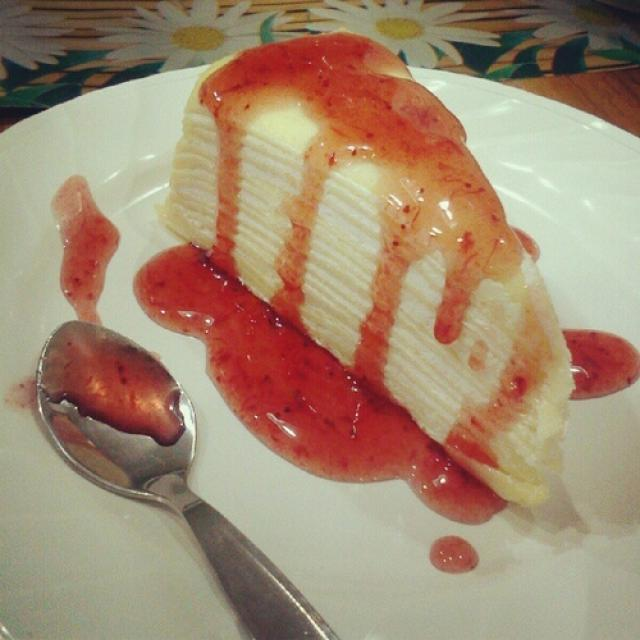蛋糕甜品: (101, 37, 603, 535)
